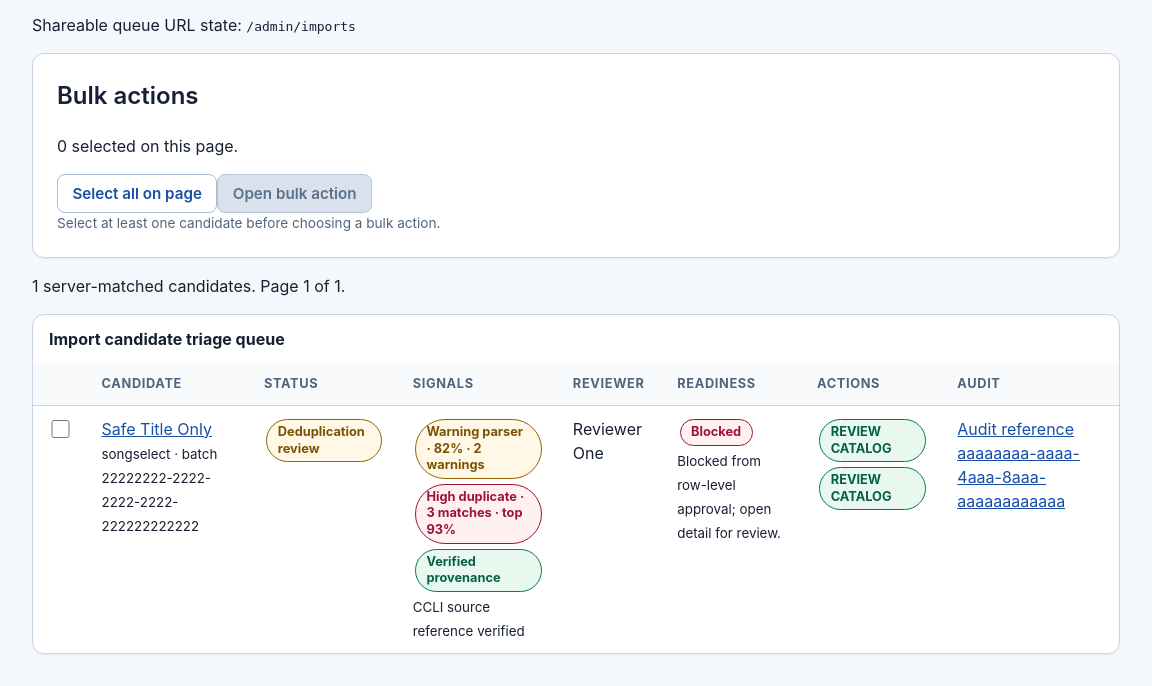
import candidate queue › disables bulk actions and shows error when backend rejects
(page scrolled)
Click the checkbox named "Select candidate Safe Title Only".
click(61, 429)  # box [51,420,70,438]
(page scrolled)
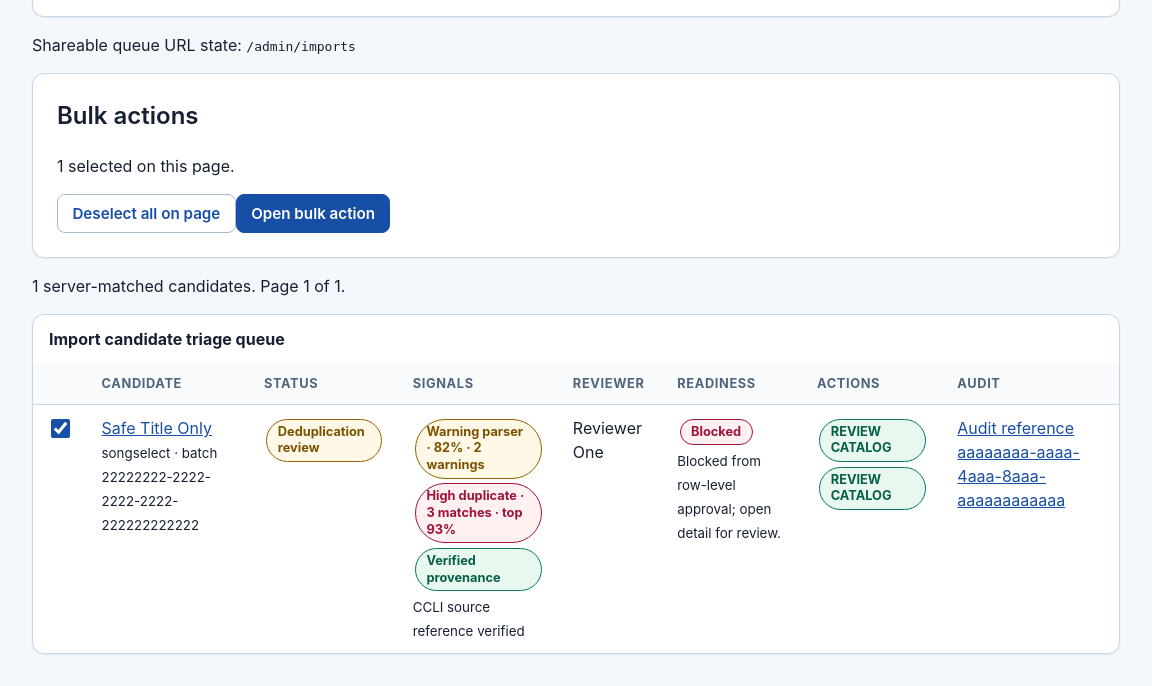
Click the button "Open bulk action".
click(313, 213)  # box [236,194,390,233]
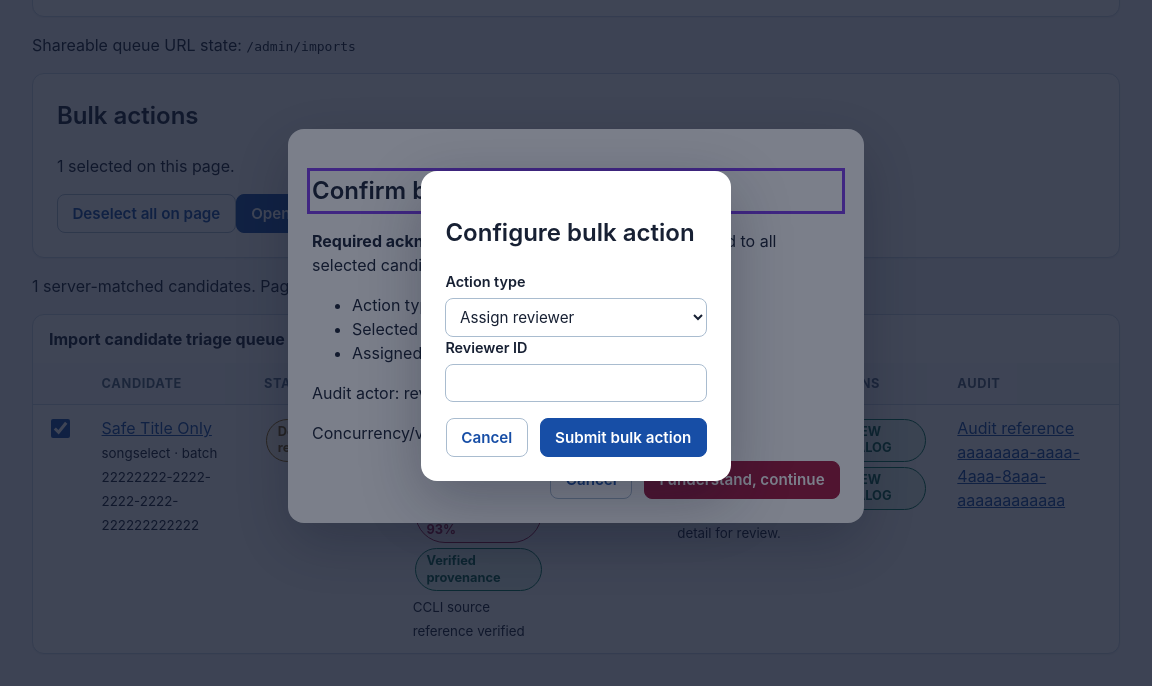
Click the button "Submit bulk action".
click(623, 438)  # box [540,418,707,457]
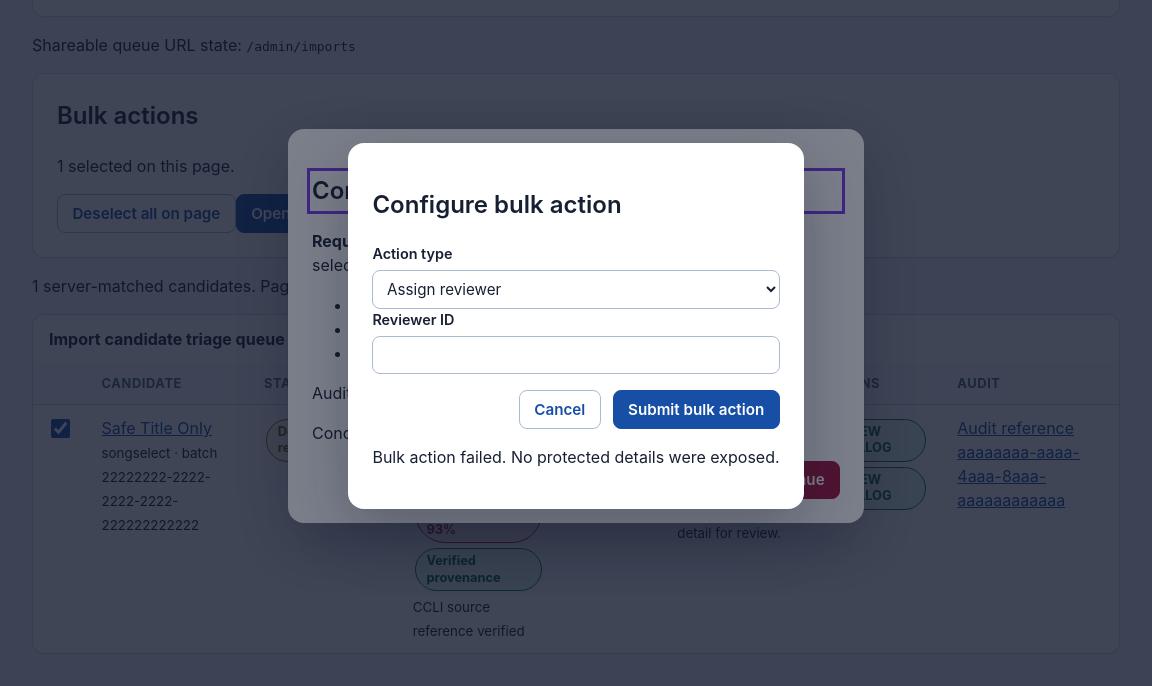
expect the text "Bulk action failed" is shown: met, box [372,447,780,467]
